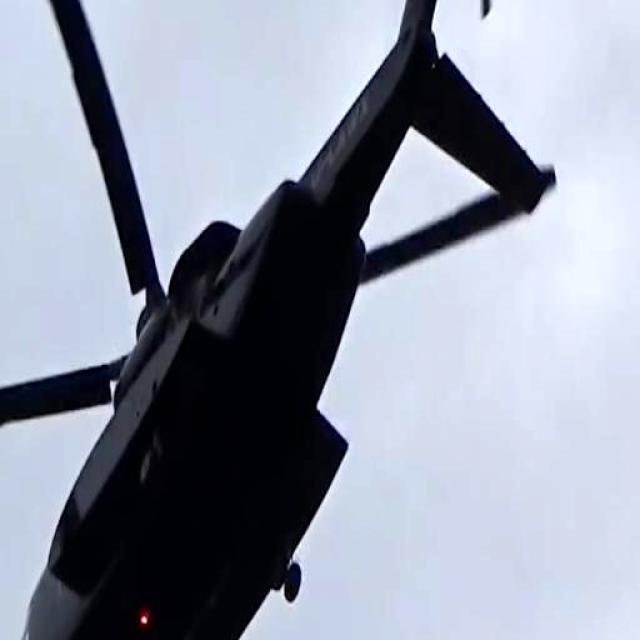drone: (0, 0, 558, 640)
